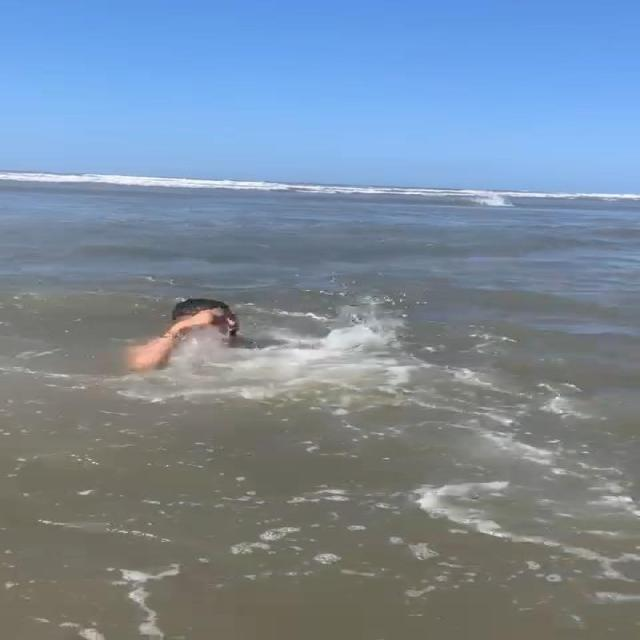Out of Water: (123, 294, 268, 380)
